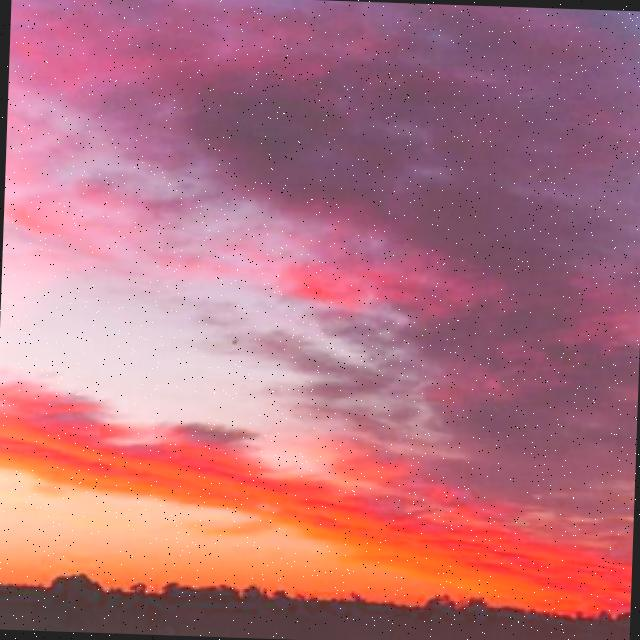As: (1, 1, 640, 571)
